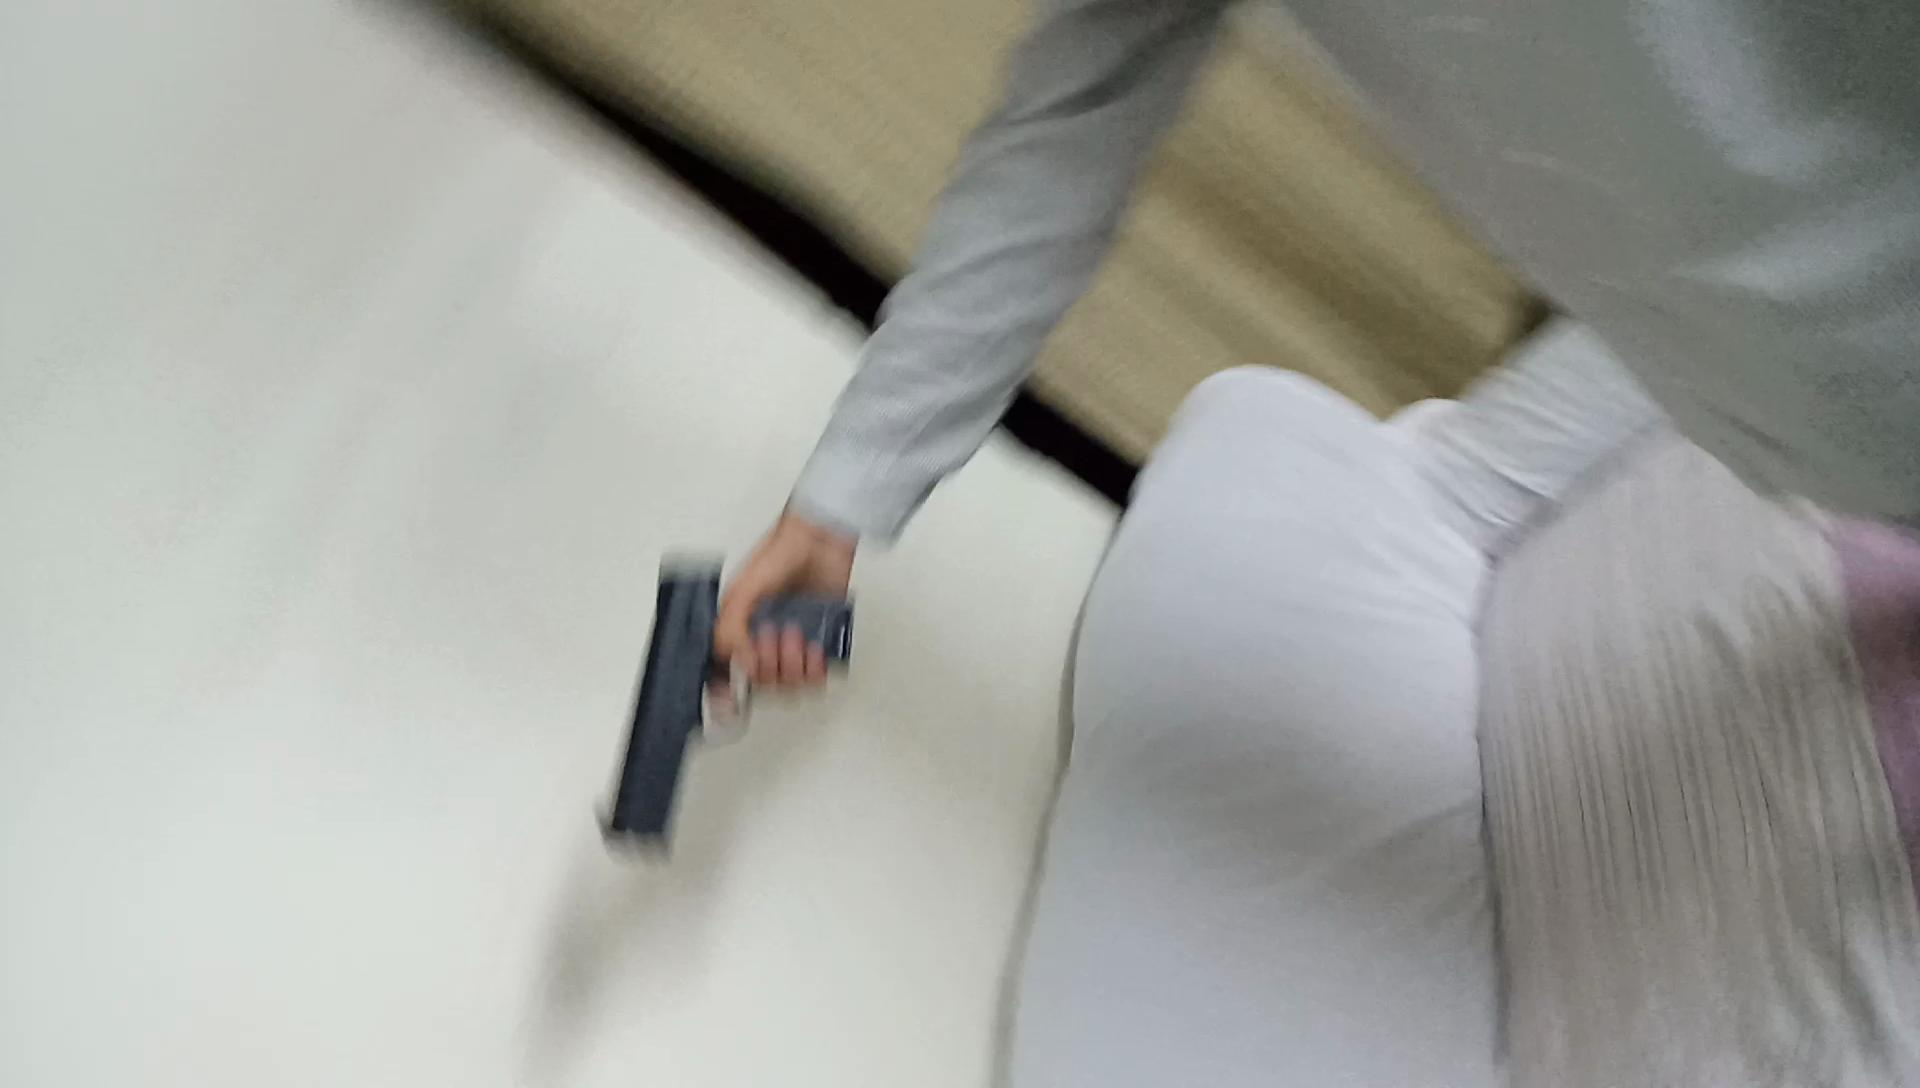weapon: (587, 539, 868, 866)
